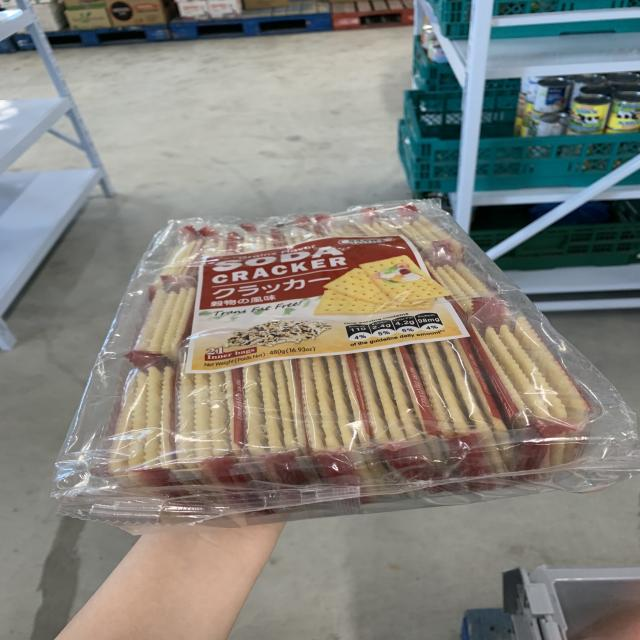object_name: (94, 214, 592, 492)
